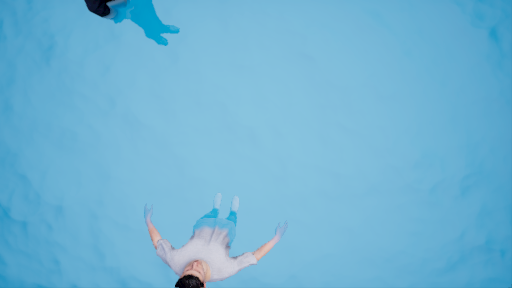person: (135, 182, 294, 288)
